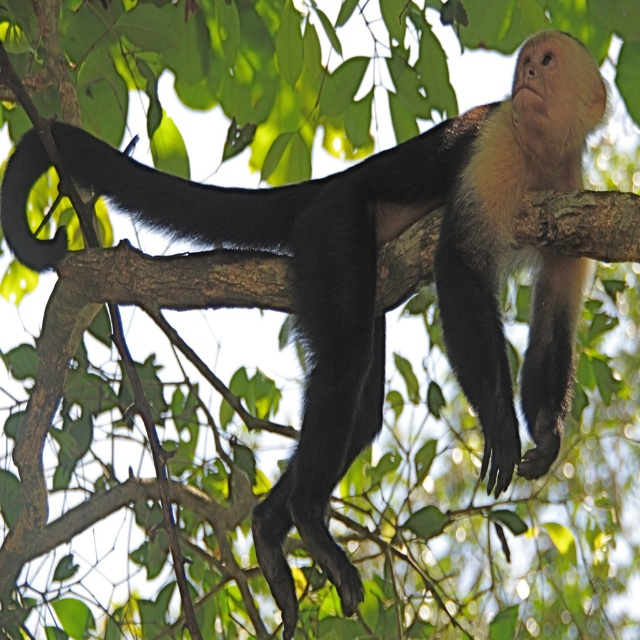Monkey: (0, 27, 616, 640)
